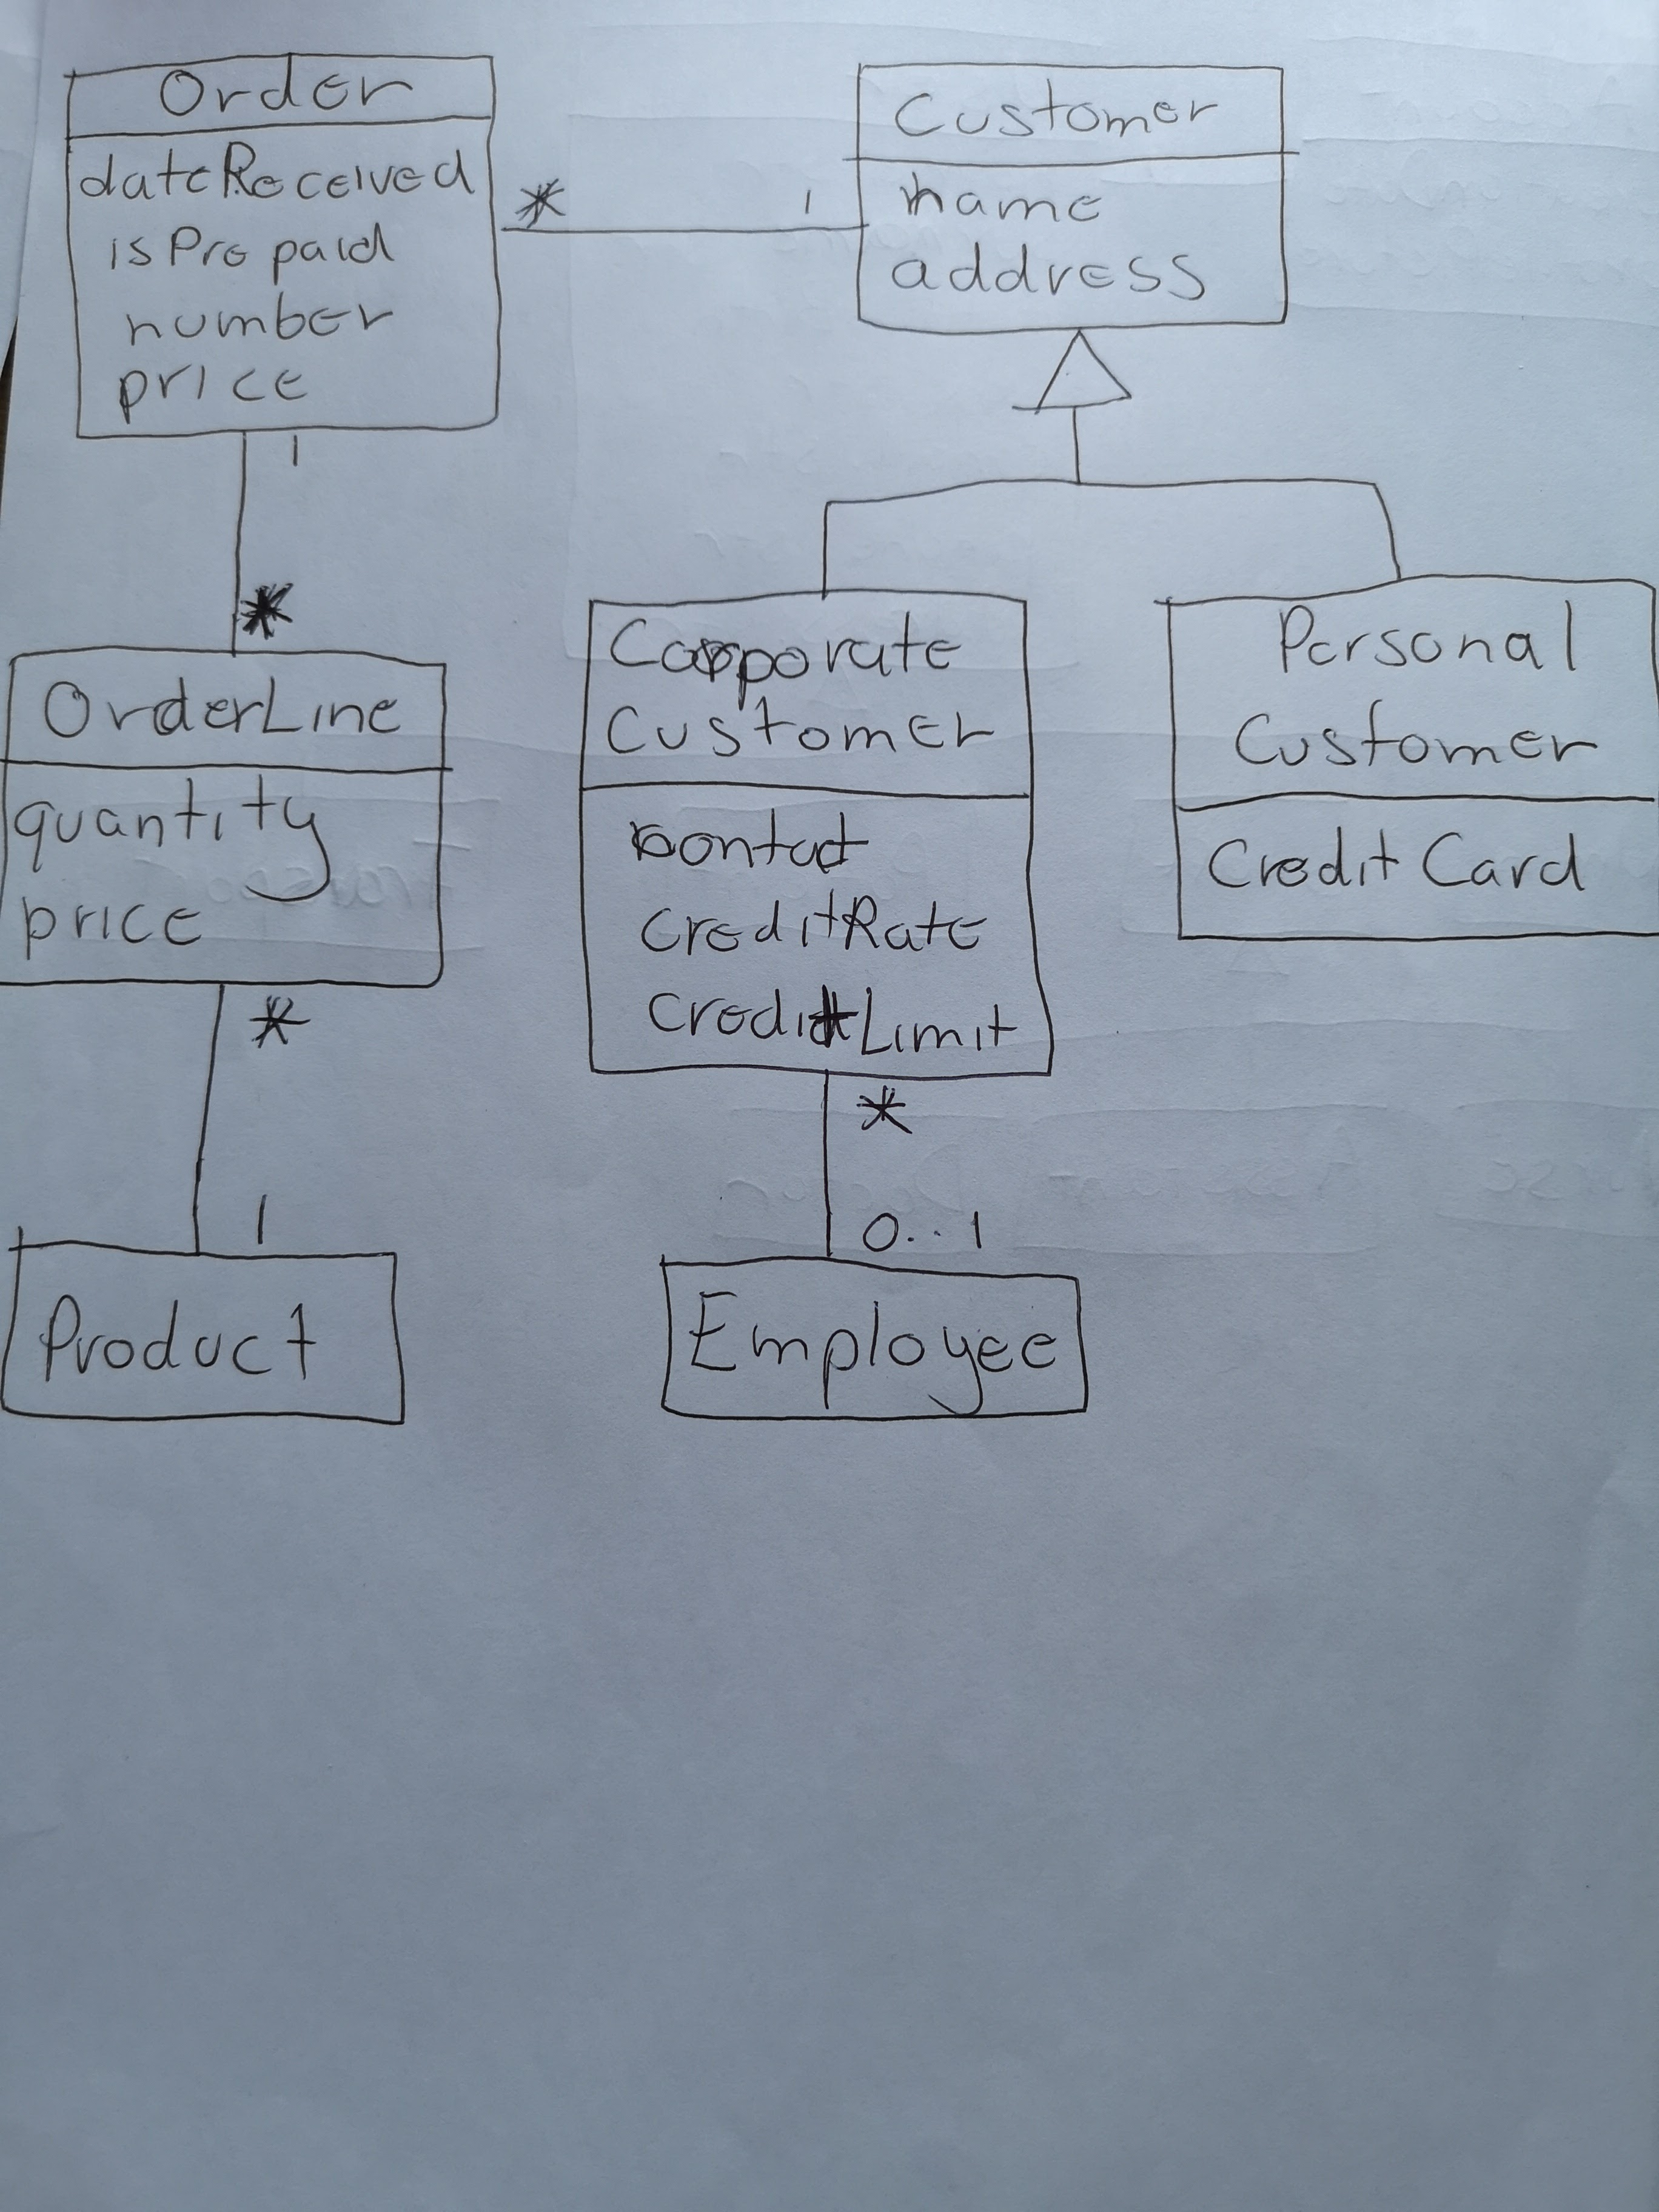association: (794, 1068, 1014, 1278), (494, 161, 871, 260), (184, 991, 309, 1272), (210, 429, 309, 669)
class attributes: (561, 573, 1059, 1090), (1151, 560, 1659, 953), (60, 47, 504, 436)
inheritance: (803, 321, 1423, 608)
simple class: (12, 637, 456, 1000), (1, 1230, 427, 1454), (648, 1265, 1101, 1425)
